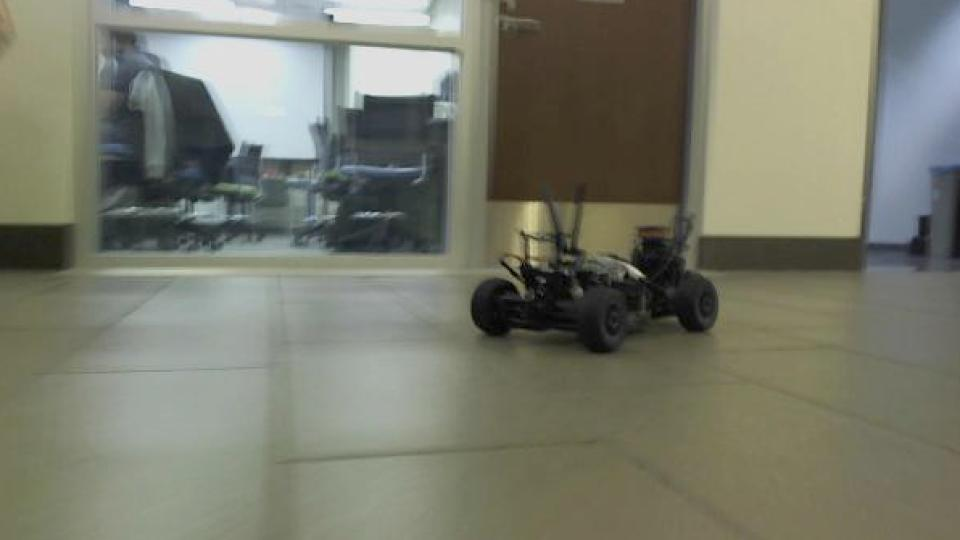car: (467, 181, 723, 356)
